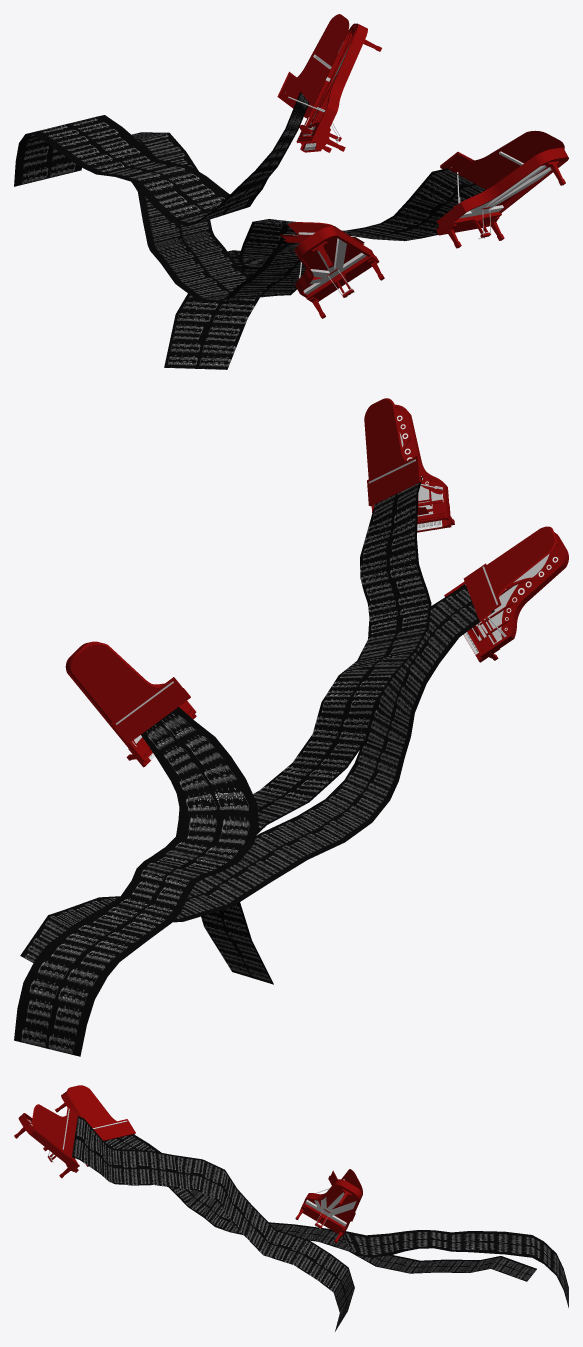
File: Pianos.fbx
The picture shows the model from 3 angles, top to bottom: view 1: azimuth 30°, elevation 25°; view 2: azimuth 150°, elevation 25°; view 3: azimuth 270°, elevation 25°; orthographic projection. The views are drawn at different scales.
Parts seen in each view (by area): view 1: Notes-1, Notes-2, Notes-3, Piano002, Piano, Piano001; view 2: Notes-1, Notes-2, Notes-3, Piano001, Piano, Piano002; view 3: Notes-2, Notes-3, Notes-1, Piano, Piano002, Piano001.
Boxes of the visible parts, <box> form: Notes-1: <box>14,92,309,226</box>; Notes-2: <box>164,168,485,369</box>; Notes-3: <box>131,132,305,301</box>; Piano002: <box>436,130,568,248</box>; Piano: <box>277,14,381,152</box>; Piano001: <box>279,222,384,318</box>; Notes-1: <box>14,707,258,1056</box>; Notes-2: <box>201,476,431,984</box>; Notes-3: <box>20,585,494,962</box>; Piano001: <box>444,526,568,662</box>; Piano: <box>65,641,196,767</box>; Piano002: <box>364,398,454,532</box>; Notes-2: <box>72,1116,354,1331</box>; Notes-3: <box>104,1134,536,1281</box>; Notes-1: <box>341,1230,568,1307</box>; Piano: <box>295,1169,362,1242</box>; Piano002: <box>14,1104,79,1178</box>; Piano001: <box>55,1085,135,1166</box>.
Bounding box in the file's own units: 12.23 × 15.61 × 31.39.
